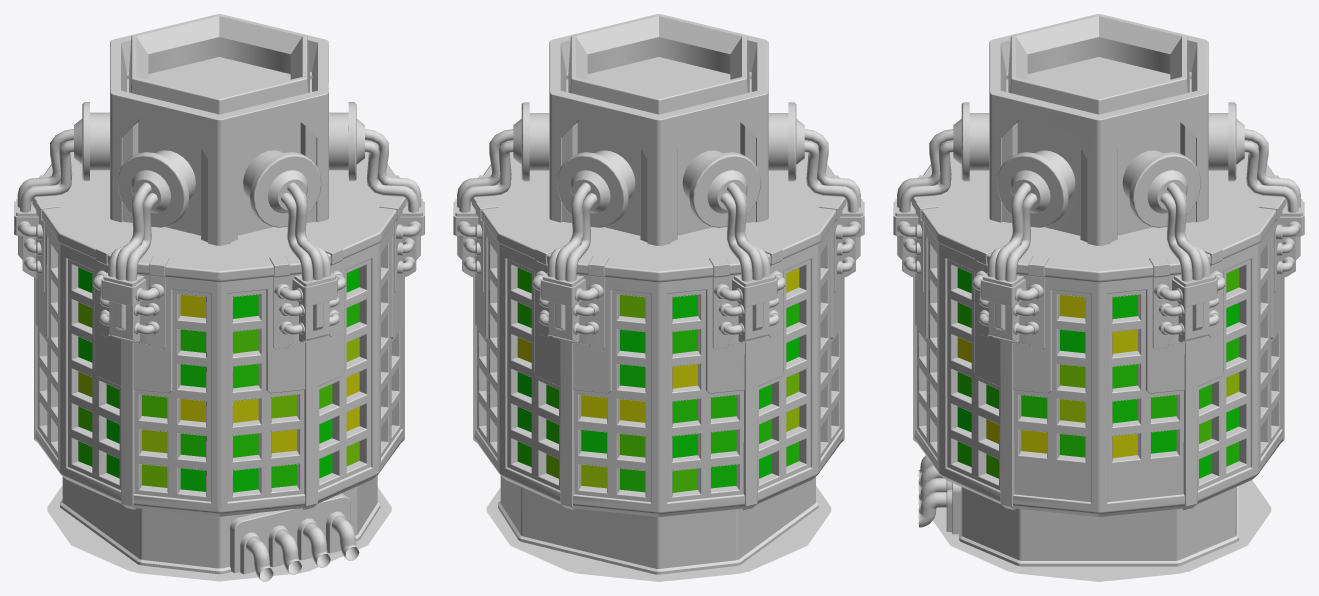
The model's file is BigBattery.fbx.
3 views of the same model, side by side, from view 1: azimuth 30°, elevation 25°; view 2: azimuth 150°, elevation 25°; view 3: azimuth 270°, elevation 25° (orthographic).
Visible parts, largest first — view 1: SM_HadronCollider_01; view 2: SM_HadronCollider_01; view 3: SM_HadronCollider_01.
Part boxes in pixels (box(x1,y1,x2,y2)): SM_HadronCollider_01: box(14, 14, 424, 581); SM_HadronCollider_01: box(453, 14, 864, 581); SM_HadronCollider_01: box(893, 14, 1304, 581).
Bounding box in the file's own units: 849 × 1134 × 933.
